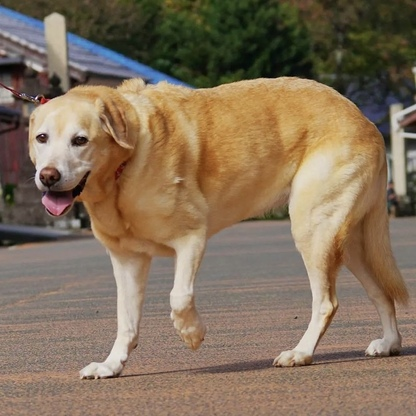labrado: (21, 70, 416, 386)
